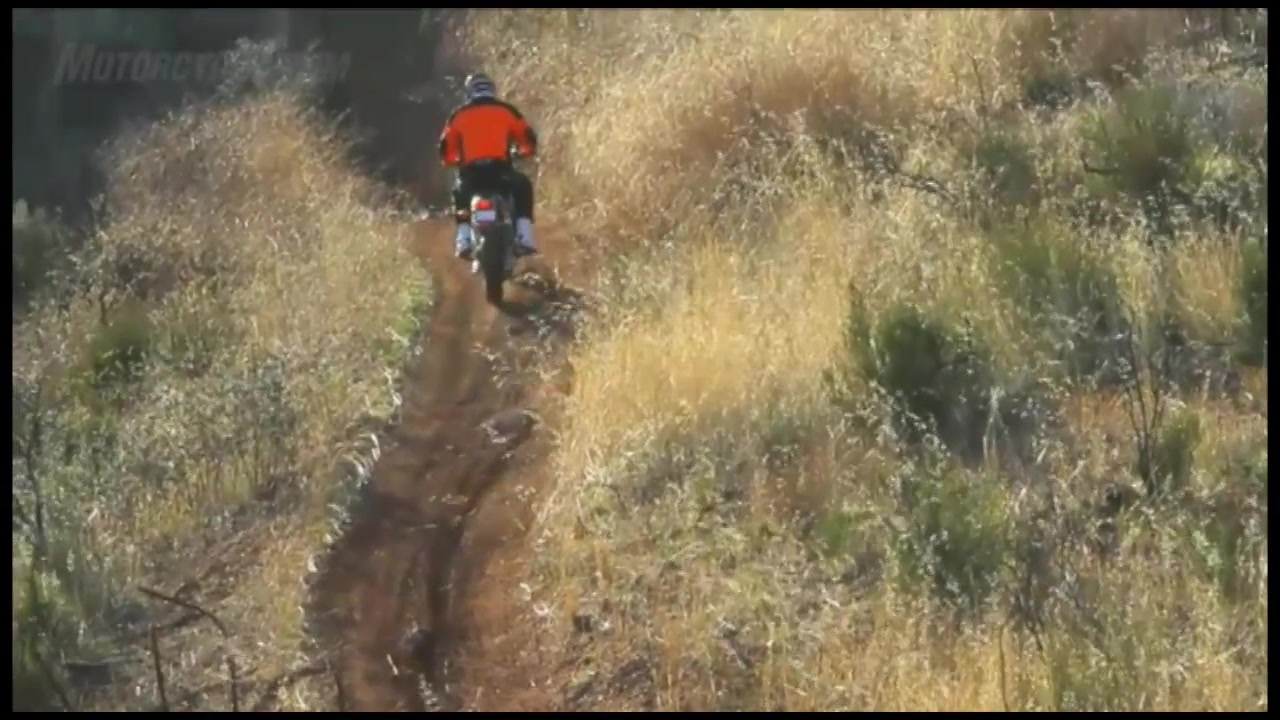motorbike: (465, 189, 516, 309)
